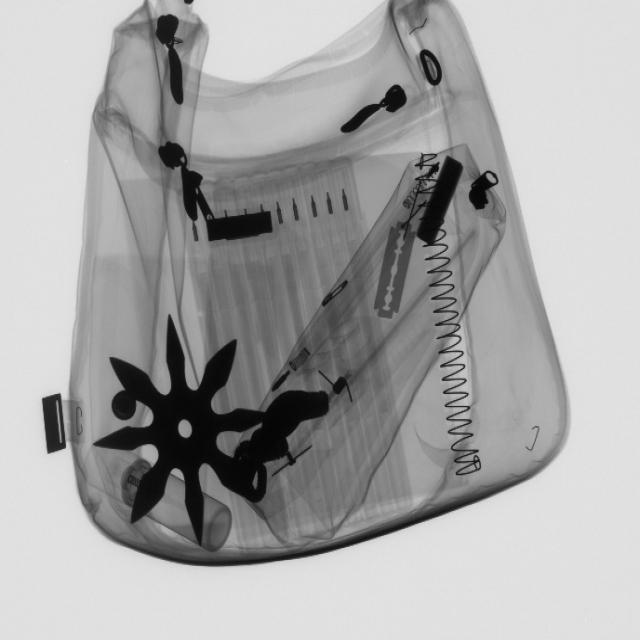BLADE: (371, 217, 419, 325)
SHURIKEN: (94, 314, 280, 547)
